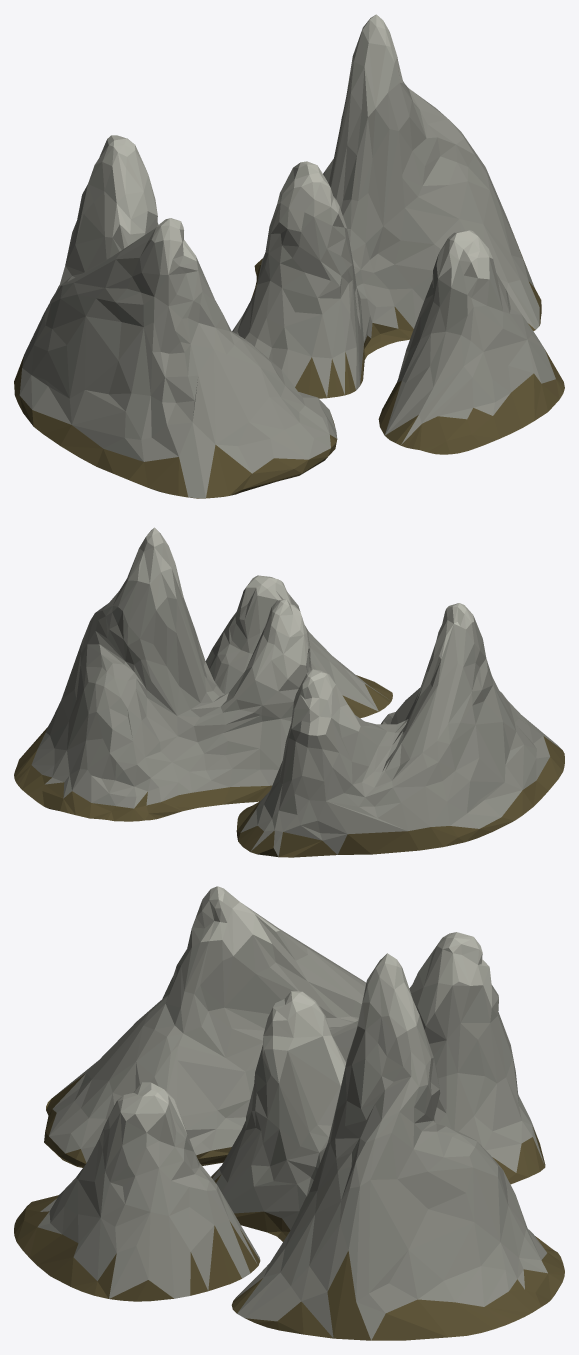
Rendered from Mountains.glb.
3 renders of one model, top to bottom at view 1: azimuth 30°, elevation 25°; view 2: azimuth 150°, elevation 25°; view 3: azimuth 270°, elevation 25°, orthographic. The views are drawn at different scales.
Visible parts, largest first — view 1: Mountain_Group_1; view 2: Mountain_Group_1; view 3: Mountain_Group_1.
Part boxes in pixels (x1=…): Mountain_Group_1: x1=14, y1=14, x2=564, y2=498; Mountain_Group_1: x1=14, y1=527, x2=564, y2=857; Mountain_Group_1: x1=14, y1=886, x2=564, y2=1340.
Size of the model in its own units: 4.59 by 2.49 by 3.84.
